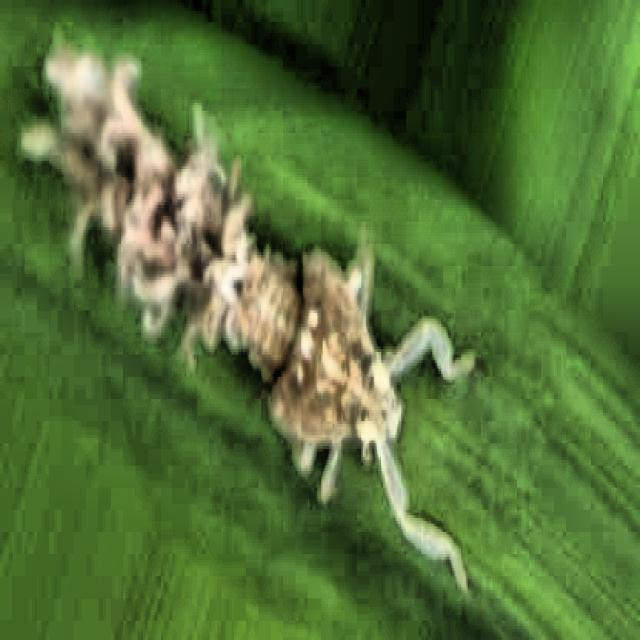Pyrilla-perpusilla: (29, 32, 500, 609)
